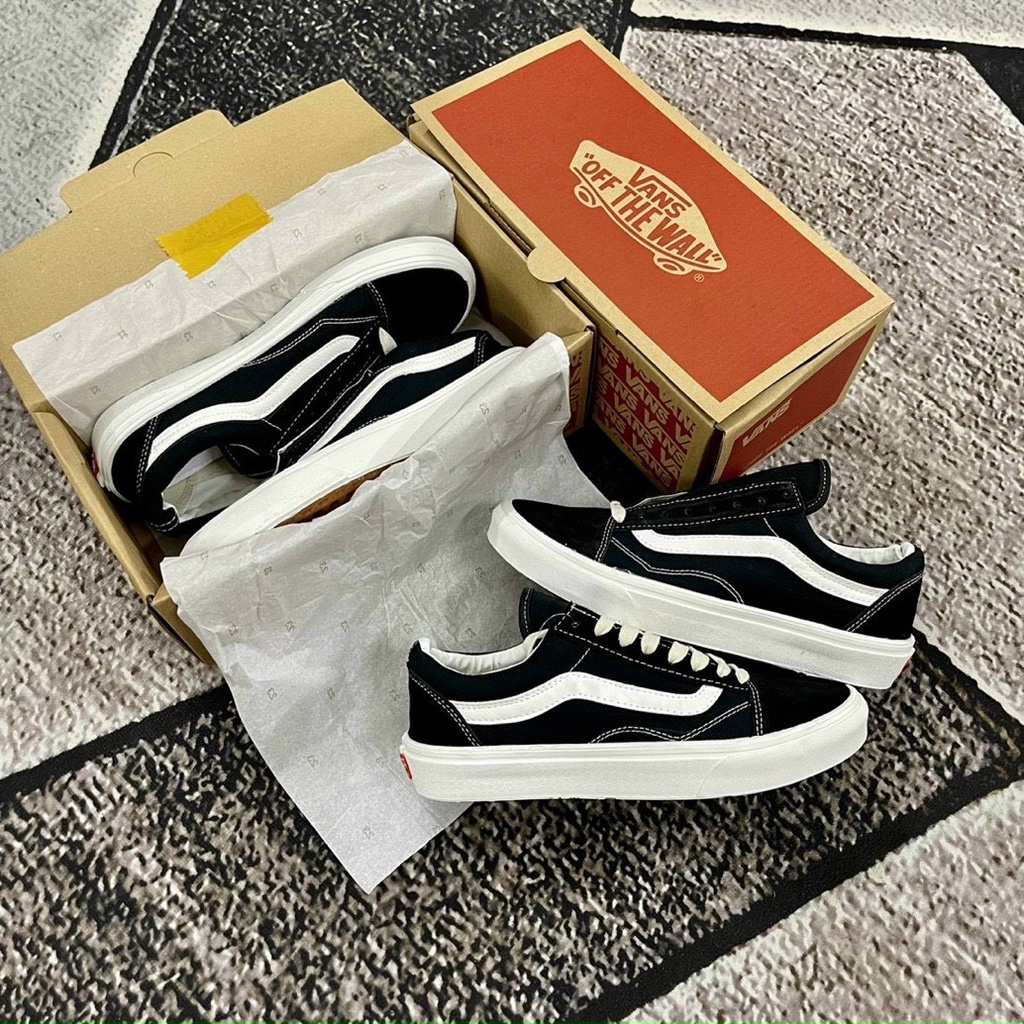sneakers: (90, 235, 480, 534), (486, 458, 925, 691), (400, 591, 872, 801)
